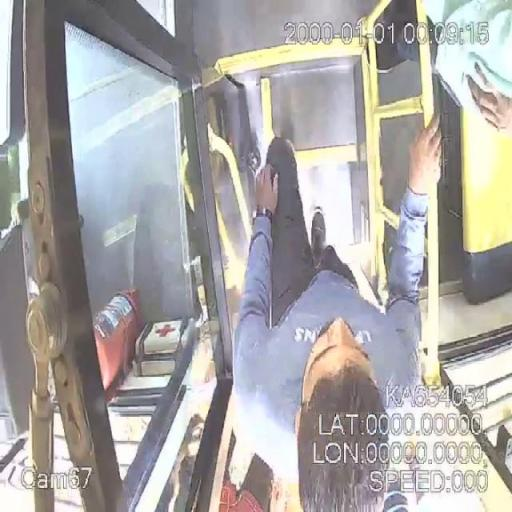persona: (230, 113, 445, 511)
